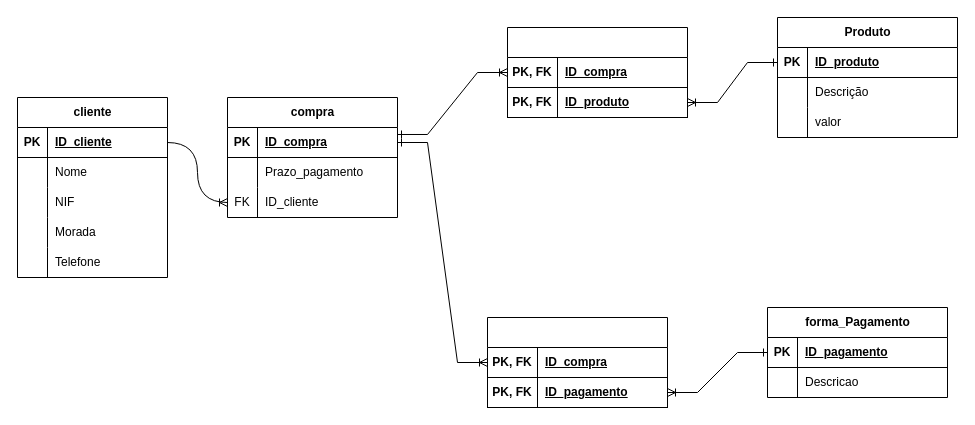
Image size: 975x425. Some labels were removed from this diagram. The box of each missing label's shape, as (x1, y1, x2, y2) in pixels:
compra_pagamento: (486, 316, 668, 408)
compra_produto: (506, 26, 688, 118)
